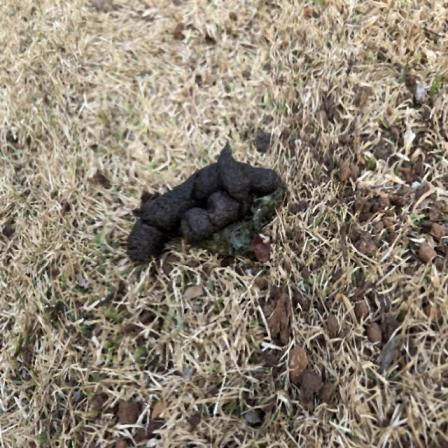dog-poop: (109, 146, 284, 266)
